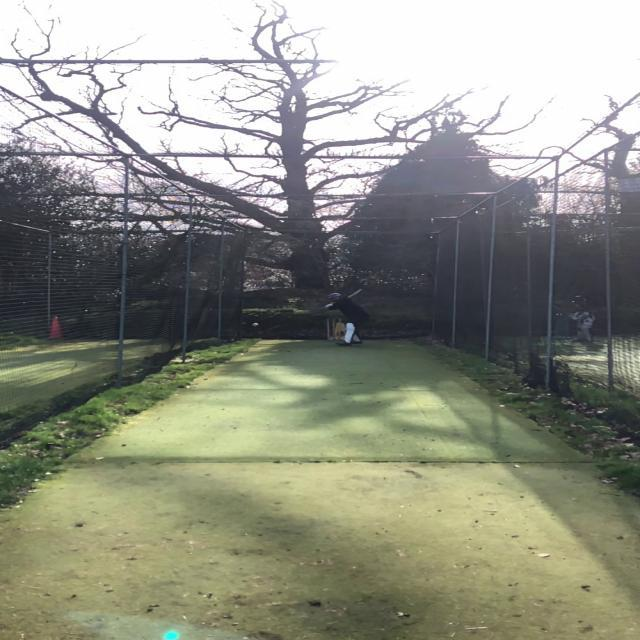ball: (252, 322, 260, 328)
